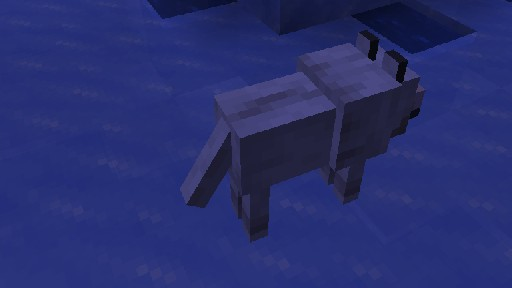wolf: (179, 29, 425, 242)
